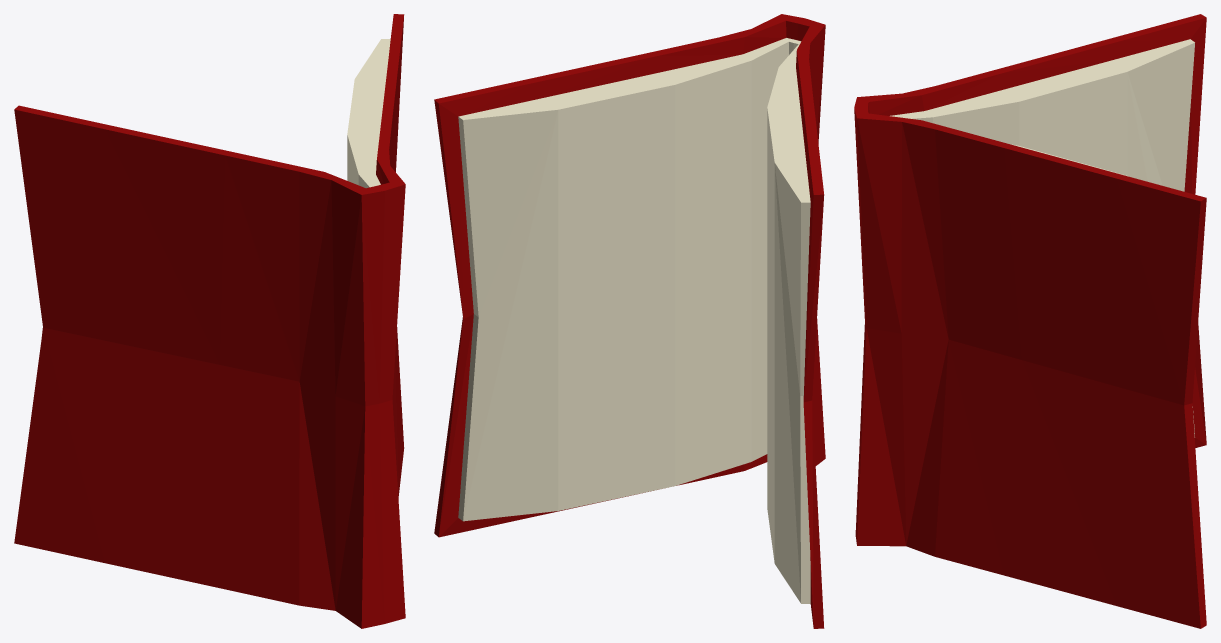
File: half_open_book_r.fbx
3 renders of one model, left to right at view 1: azimuth 30°, elevation 25°; view 2: azimuth 150°, elevation 25°; view 3: azimuth 270°, elevation 25°, orthographic.
Parts seen in each view (by area): view 1: Box001; view 2: Box001; view 3: Box001.
Part boxes in pixels (left/top/right/bottom): Box001: left=14, top=14, right=405, bottom=628; Box001: left=434, top=14, right=825, bottom=628; Box001: left=854, top=14, right=1206, bottom=628.
Size of the model in its own units: 63.95 by 68 by 50.83.
